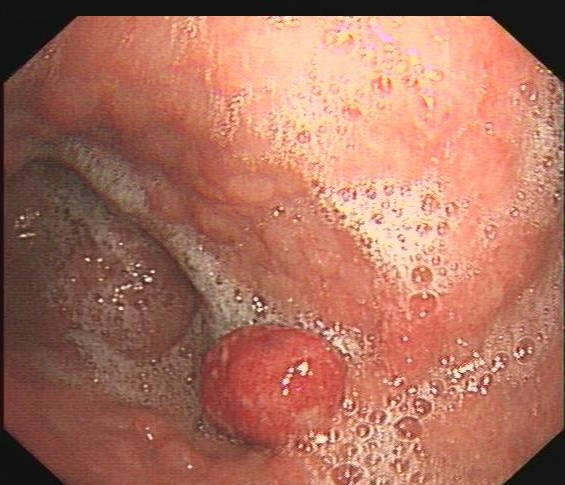Polyp: (192, 320, 361, 439)
